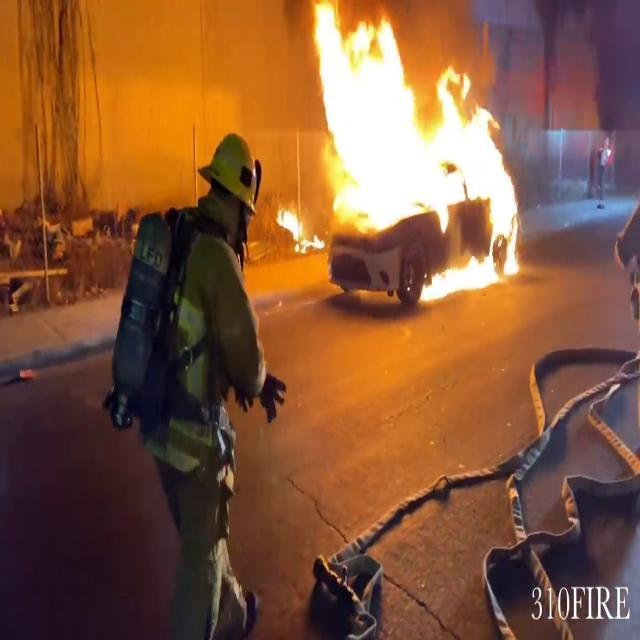Fire: (316, 3, 524, 216), (425, 232, 518, 305), (274, 196, 312, 254)
